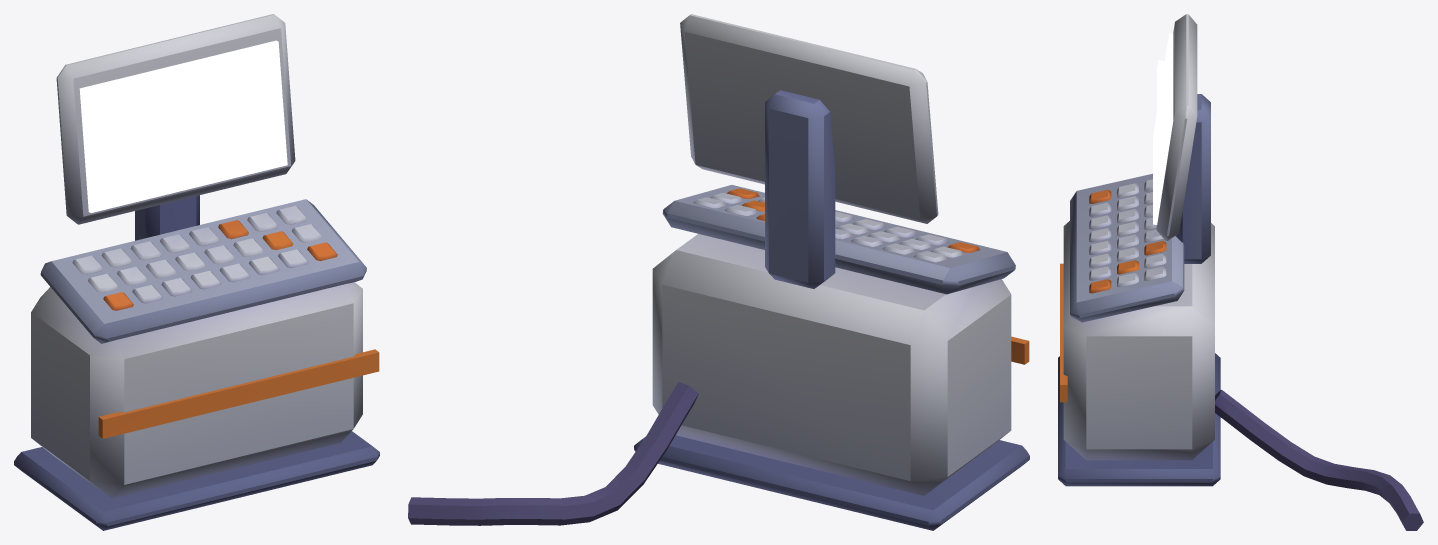
The model's file is hub_prop_terminal.glb.
3 views of the same model, side by side, from view 1: azimuth 30°, elevation 25°; view 2: azimuth 150°, elevation 25°; view 3: azimuth 270°, elevation 25° (orthographic). The views are drawn at different scales.
Visible parts, largest first — view 1: hub_prop_terminal; view 2: hub_prop_terminal; view 3: hub_prop_terminal.
Boxes of the visible parts, x1,y1,x2,y2 form: hub_prop_terminal: (14,14,379,530); hub_prop_terminal: (408,14,1029,530); hub_prop_terminal: (1058,14,1423,530).
Size of the model in its own units: 2.1 by 2.17 by 1.94.
